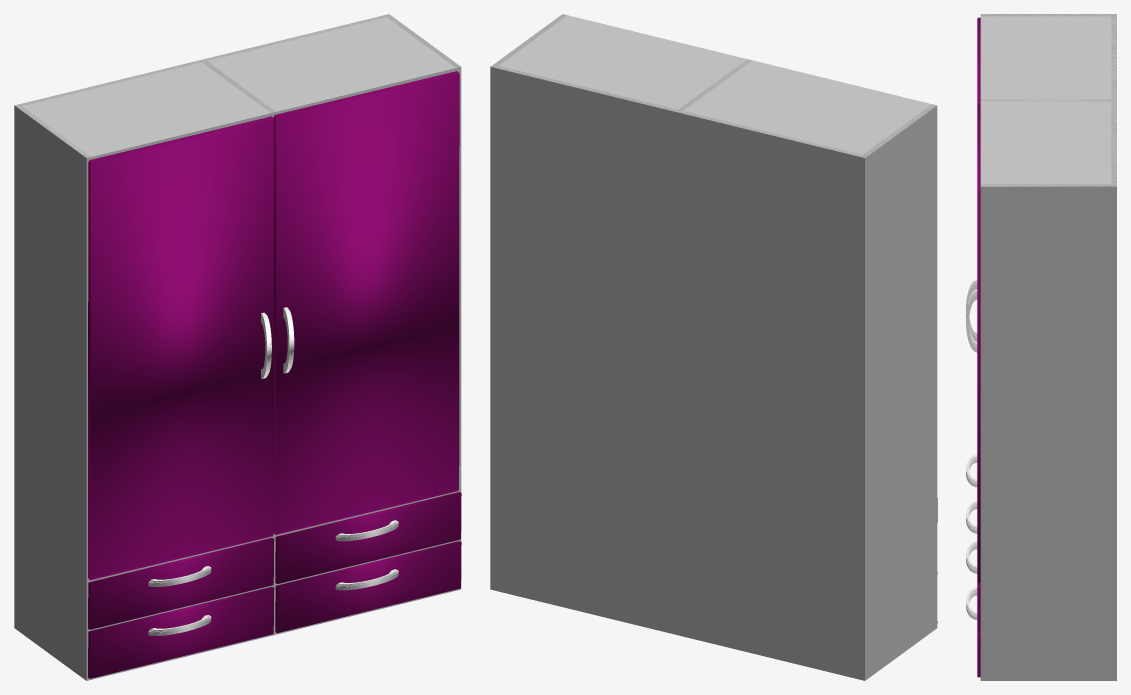
Rendered from kast.dae.
3 views of the same model, side by side, from view 1: azimuth 30°, elevation 25°; view 2: azimuth 150°, elevation 25°; view 3: azimuth 270°, elevation 25° (orthographic). The views are drawn at different scales.
Visible parts, largest first — view 1: Almirah 1; view 2: Almirah 1; view 3: Almirah 1.
Part boxes in pixels (left/top/right/bottom): Almirah 1: left=14, top=14, right=461, bottom=680; Almirah 1: left=490, top=14, right=937, bottom=680; Almirah 1: left=966, top=14, right=1116, bottom=680.
Size of the model in its own units: 183 by 67.53 by 244.
